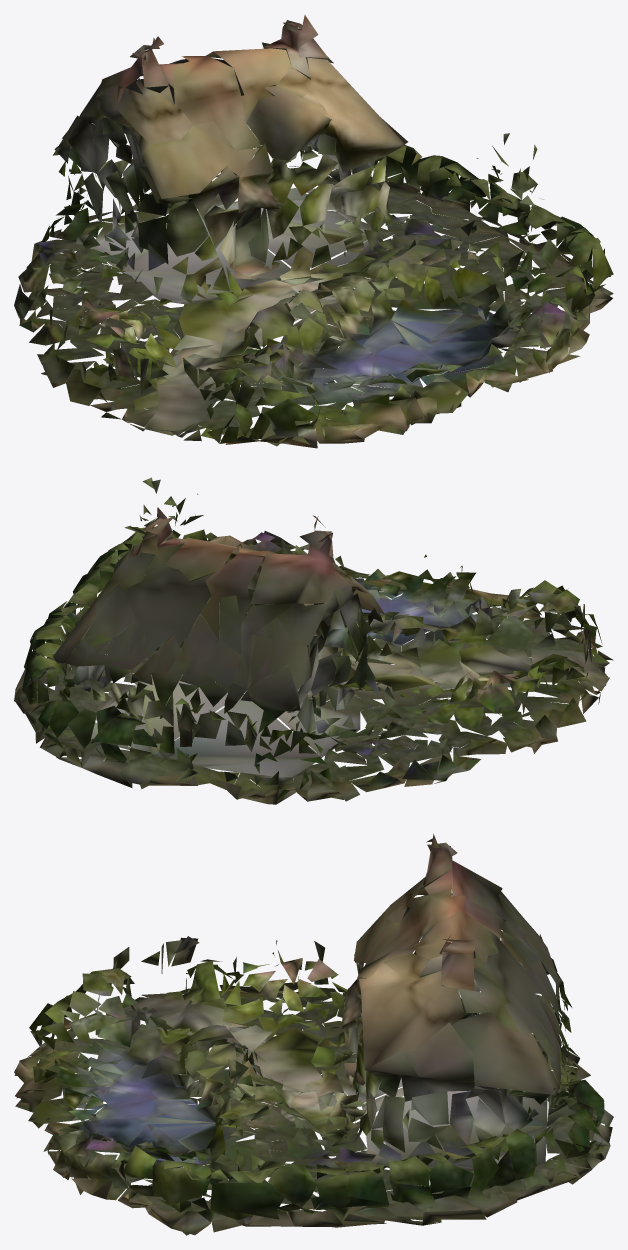
Rendered from An_english_country_co_town.glb.
3 views of the same model, one above another, from view 1: azimuth 30°, elevation 25°; view 2: azimuth 150°, elevation 25°; view 3: azimuth 270°, elevation 25° (orthographic). The views are drawn at different scales.
Parts seen in each view (by area): view 1: An_english_country_co; view 2: An_english_country_co; view 3: An_english_country_co.
Boxes of the visible parts, box(x1,y1,x2,y2) form: An_english_country_co: box(14, 14, 613, 448); An_english_country_co: box(14, 477, 613, 804); An_english_country_co: box(14, 833, 613, 1235).
Bounding box in the file's own units: 1.86 × 0.8683 × 1.9.
1 material, 1 textured.
